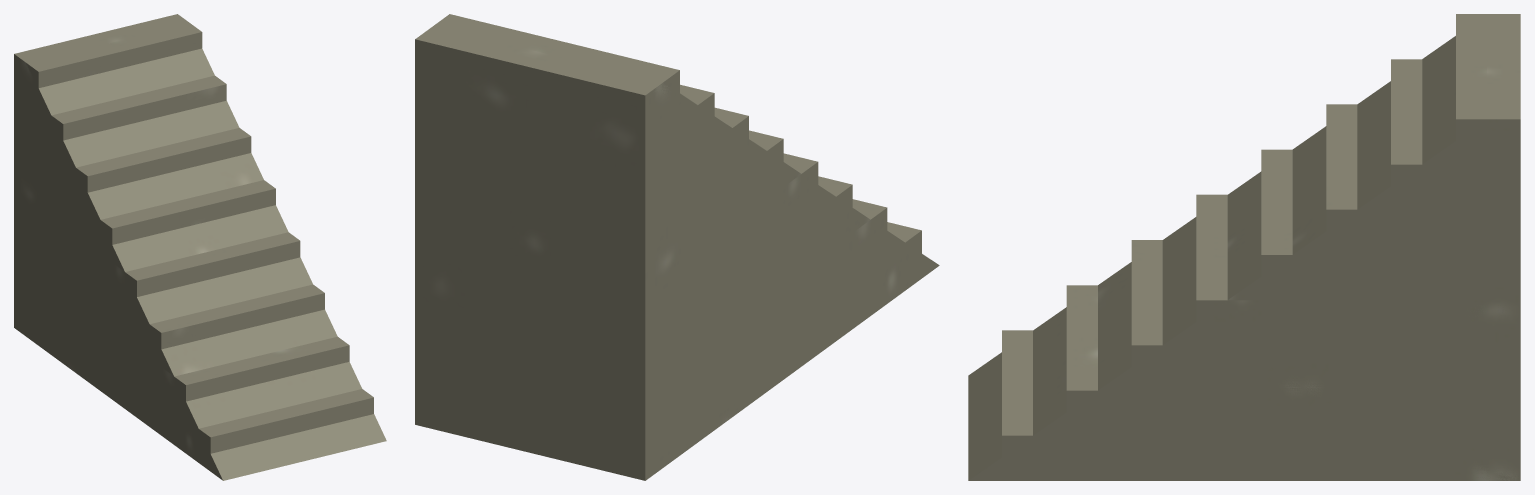
Rendered from Stairs.fbx.
3 views of the same model, side by side, from view 1: azimuth 30°, elevation 25°; view 2: azimuth 150°, elevation 25°; view 3: azimuth 270°, elevation 25° (orthographic). The views are drawn at different scales.
Parts seen in each view (by area): view 1: StandarLadder, COLstairs, COL; view 2: StandarLadder, COL; view 3: StandarLadder, COL, COLstairs.
Boxes of the visible parts, x1=… form: StandarLadder: x1=26, y1=23, x2=373, y2=471; COLstairs: x1=39, y1=48, x2=386, y2=480; COL: x1=14, y1=14, x2=222, y2=480; StandarLadder: x1=415, y1=14, x2=921, y2=480; COL: x1=415, y1=26, x2=939, y2=480; StandarLadder: x1=1002, y1=14, x2=1520, y2=480; COL: x1=969, y1=14, x2=1520, y2=480; COLstairs: x1=968, y1=36, x2=1455, y2=480.
Bounding box in the file's own units: 100 × 160 × 222.
1 material, 1 textured.
